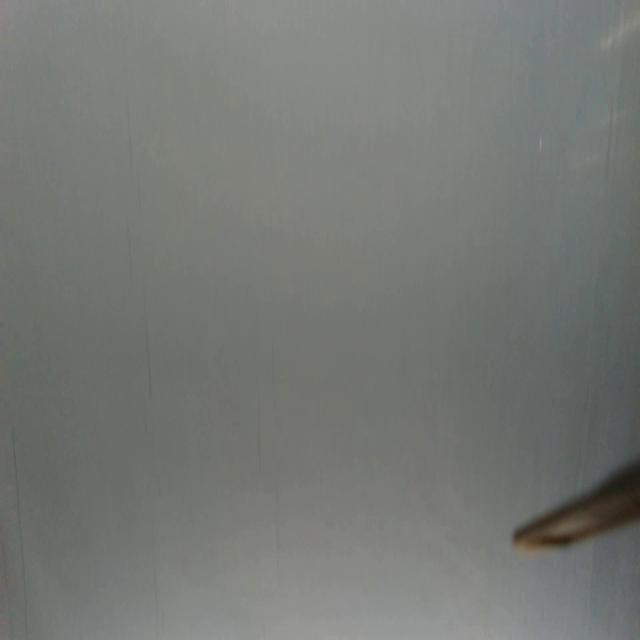crease: (576, 8, 624, 476), (11, 420, 28, 640)
